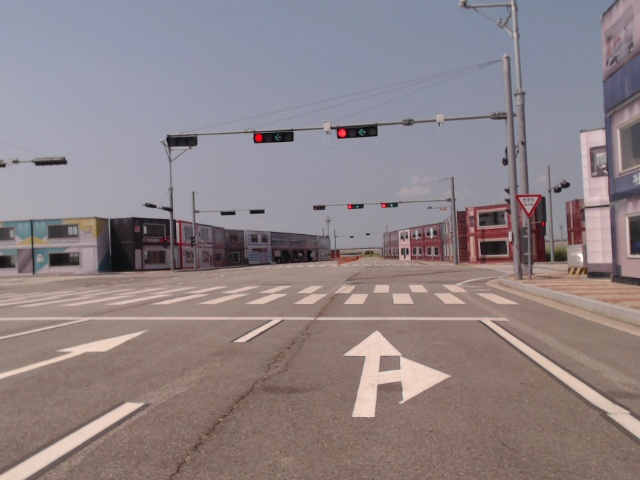left_green_4: (337, 127, 377, 139), (254, 133, 292, 143)
